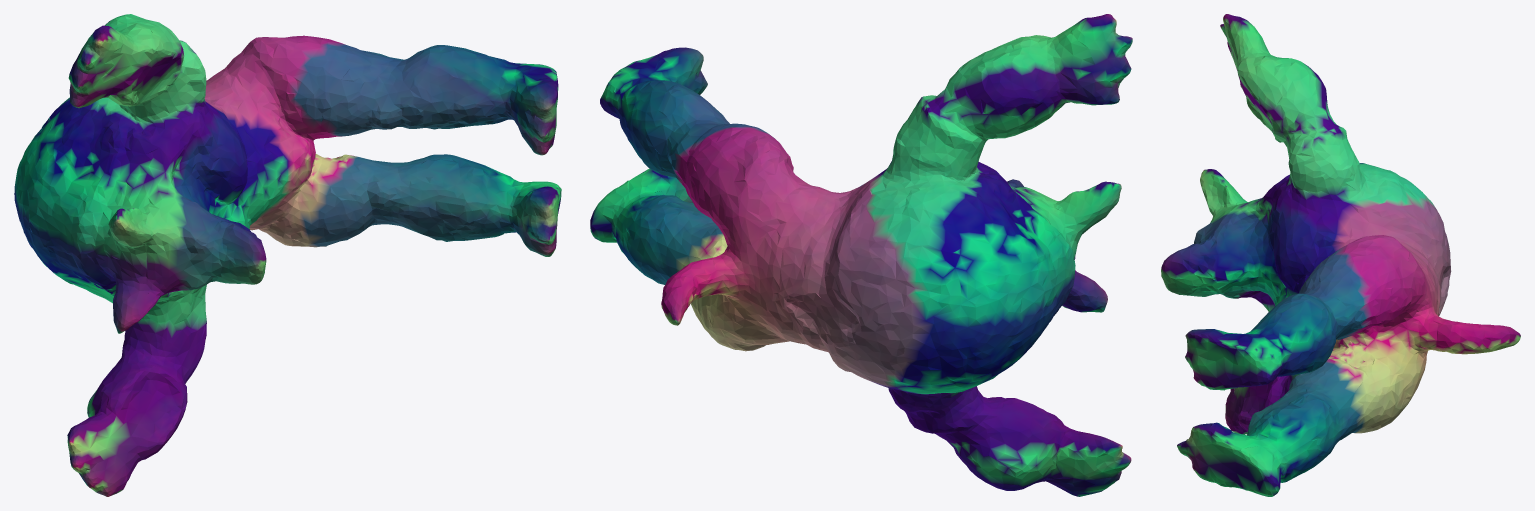
The model's file is armadillo-8.off.obj.
3 views of the same model, side by side, from view 1: azimuth 30°, elevation 25°; view 2: azimuth 150°, elevation 25°; view 3: azimuth 270°, elevation 25° (orthographic). The views are drawn at different scales.
Bounding box in the file's own units: 1.46 × 1.29 × 1.02.
